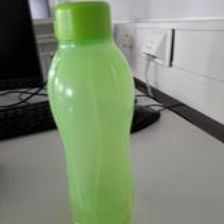bottle: (47, 0, 138, 224)
